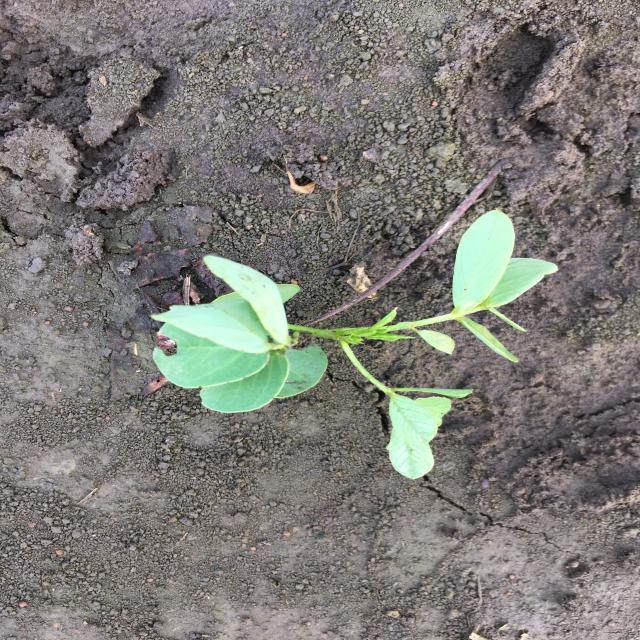Sicklepod: (147, 207, 560, 483)
